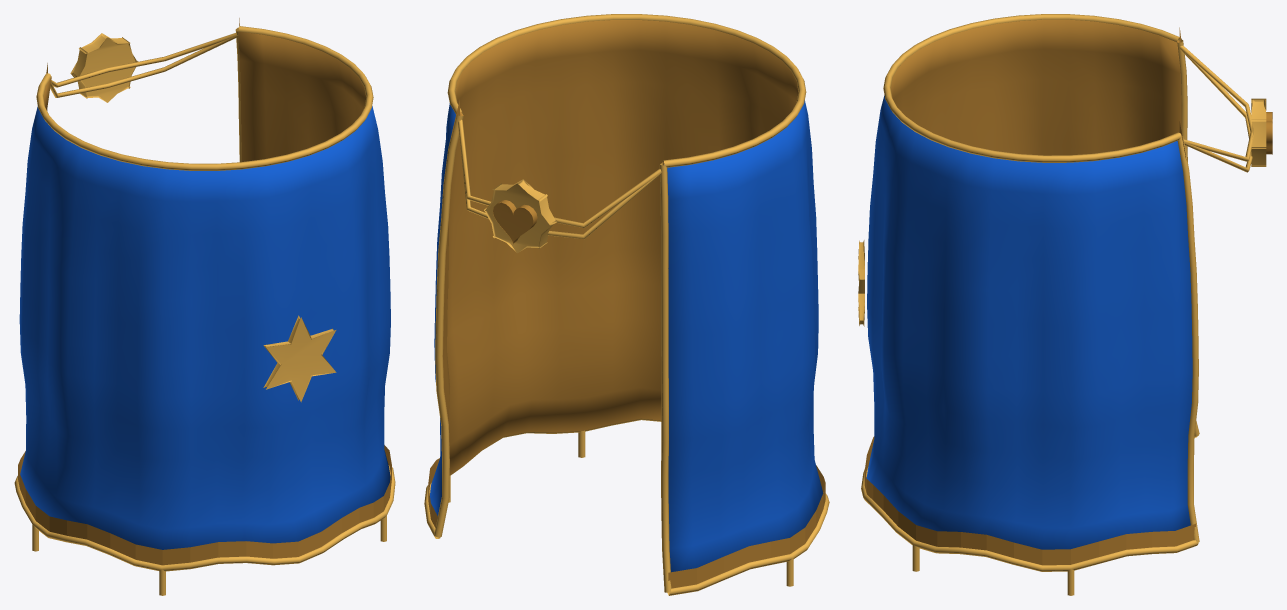
File: royal-capes-king.glb
3 renders of one model, left to right at view 1: azimuth 30°, elevation 25°; view 2: azimuth 150°, elevation 25°; view 3: azimuth 270°, elevation 25°, orthographic. The views are drawn at different scales.
Visible parts, largest first — view 1: tailored_cloth, broad_embroidered_hem, tailored_gold_binding, back_heraldry, tailored_gold_binding.001, brooch_gold, clasp_chain.001, clasp_chain; view 2: tailored_cloth, tailored_gold_binding, tailored_gold_binding.002, tailored_gold_binding.003, broad_embroidered_hem, brooch_gold, tailored_gold_binding.001, brooch_jewel, clasp_chain, clasp_chain.001; view 3: tailored_cloth, broad_embroidered_hem, tailored_gold_binding, tailored_gold_binding.002, tailored_gold_binding.001, brooch_gold, clasp_chain, clasp_chain.001, tailored_gold_binding.003, back_heraldry.
Boxes of the visible parts, x1=… form: tailored_cloth: x1=19, y1=31, x2=390, y2=549; broad_embroidered_hem: x1=18, y1=445, x2=391, y2=565; tailored_gold_binding: x1=36, y1=26, x2=373, y2=170; back_heraldry: x1=263, y1=315, x2=336, y2=402; tailored_gold_binding.001: x1=14, y1=465, x2=395, y2=571; brooch_gold: x1=70, y1=33, x2=138, y2=102; clasp_chain.001: x1=50, y1=35, x2=238, y2=97; clasp_chain: x1=51, y1=33, x2=236, y2=87; tailored_cloth: x1=430, y1=20, x2=823, y2=572; tailored_gold_binding: x1=447, y1=14, x2=806, y2=167; tailored_gold_binding.002: x1=434, y1=115, x2=463, y2=537; tailored_gold_binding.003: x1=659, y1=163, x2=671, y2=592; broad_embroidered_hem: x1=428, y1=458, x2=825, y2=588; brooch_gold: x1=484, y1=179, x2=556, y2=253; tailored_gold_binding.001: x1=424, y1=418, x2=829, y2=595; brooch_jewel: x1=493, y1=200, x2=537, y2=244; clasp_chain: x1=458, y1=119, x2=661, y2=227; clasp_chain.001: x1=458, y1=124, x2=661, y2=239; tailored_cloth: x1=866, y1=19, x2=1192, y2=549; broad_embroidered_hem: x1=864, y1=436, x2=1195, y2=565; tailored_gold_binding: x1=883, y1=14, x2=1181, y2=162; tailored_gold_binding.002: x1=1177, y1=135, x2=1199, y2=542; tailored_gold_binding.001: x1=861, y1=436, x2=1198, y2=571; brooch_gold: x1=1251, y1=98, x2=1266, y2=166; clasp_chain: x1=1179, y1=45, x2=1252, y2=161; clasp_chain.001: x1=1180, y1=48, x2=1252, y2=172; tailored_gold_binding.003: x1=1177, y1=39, x2=1199, y2=436; back_heraldry: x1=858, y1=240, x2=864, y2=326.
Bounding box in the file's own units: 0.5084 × 0.6421 × 0.5446.
